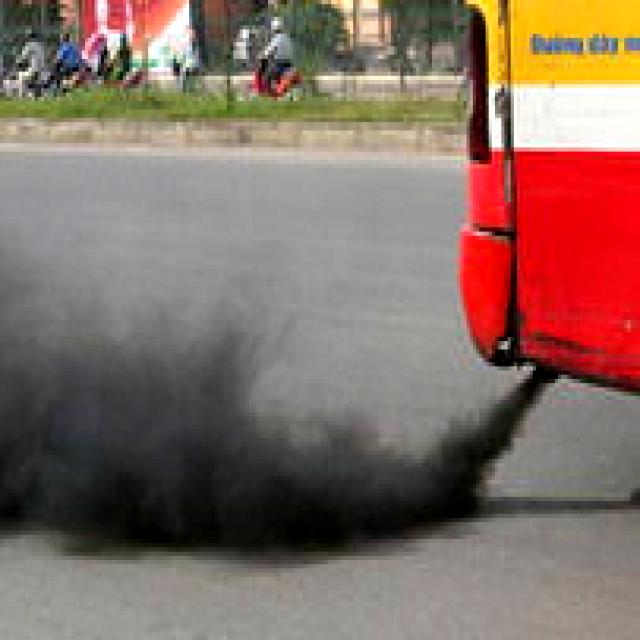Smoke: (0, 313, 573, 553)
